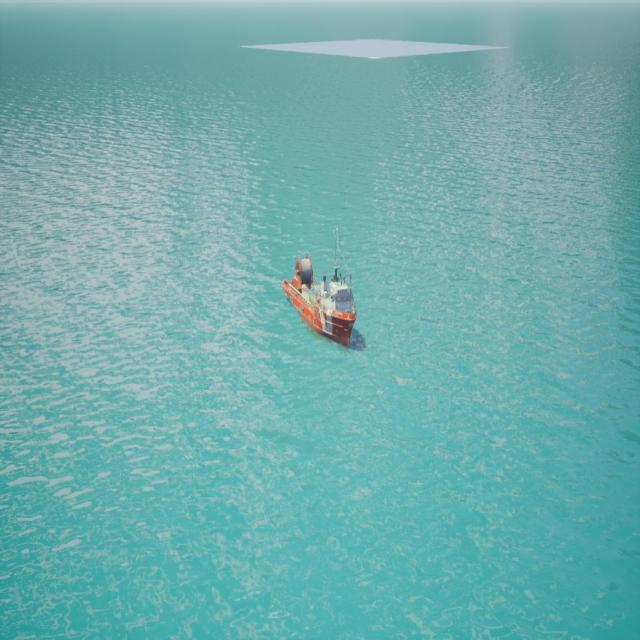tug boat: (282, 275, 362, 353)
